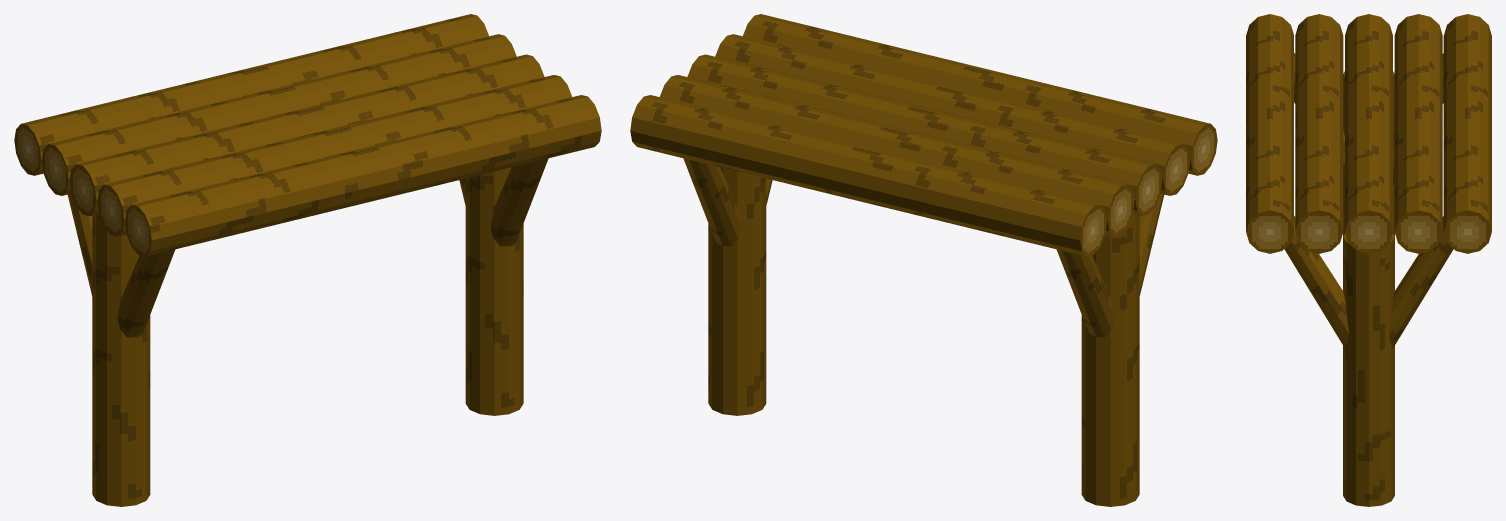
The model's file is BosPoort.fbx.
The picture shows the model from 3 angles, left to right: view 1: azimuth 30°, elevation 25°; view 2: azimuth 150°, elevation 25°; view 3: azimuth 270°, elevation 25°; orthographic projection. The views are drawn at different scales.
Visible parts, largest first — view 1: BosPoort; view 2: BosPoort; view 3: BosPoort.
Part boxes in pixels (left/top/right/bottom): BosPoort: left=14, top=14, right=601, bottom=506; BosPoort: left=630, top=14, right=1217, bottom=506; BosPoort: left=1246, top=14, right=1491, bottom=506.
Bounding box in the file's own units: 1.21 × 0.8715 × 0.642.
